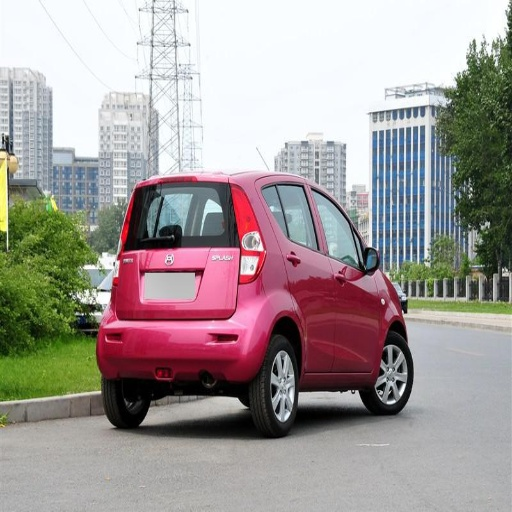back_bumper: (98, 285, 269, 381)
back_right_door: (266, 179, 338, 371)
trunk: (115, 240, 238, 320)
